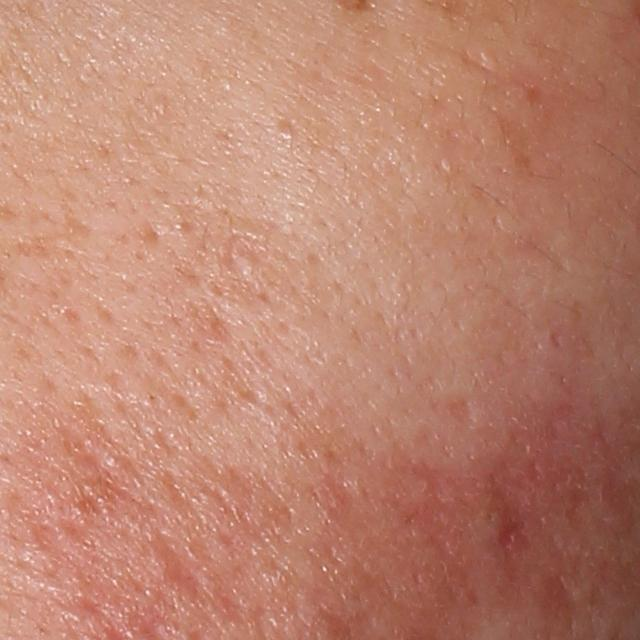atrophic_scar: (219, 231, 270, 285), (437, 390, 478, 429)
